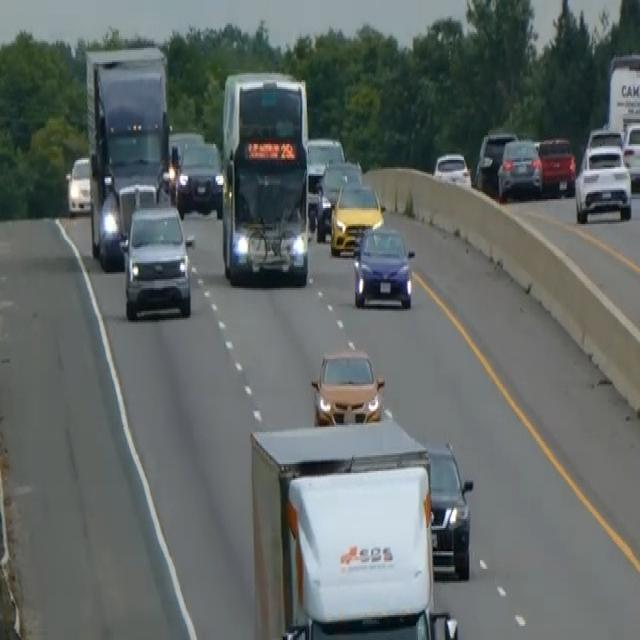bus: (219, 68, 310, 286)
car: (118, 201, 195, 320), (423, 439, 473, 580), (310, 345, 385, 425), (352, 222, 415, 310), (574, 139, 632, 222), (329, 180, 385, 256), (315, 158, 362, 238), (175, 139, 223, 217), (497, 135, 543, 201), (474, 128, 517, 190), (537, 135, 576, 196), (166, 128, 204, 174), (65, 155, 92, 215), (432, 149, 471, 187), (306, 135, 344, 167), (622, 117, 639, 187), (585, 125, 623, 151)
lorry: (249, 418, 459, 636), (82, 41, 175, 268)
